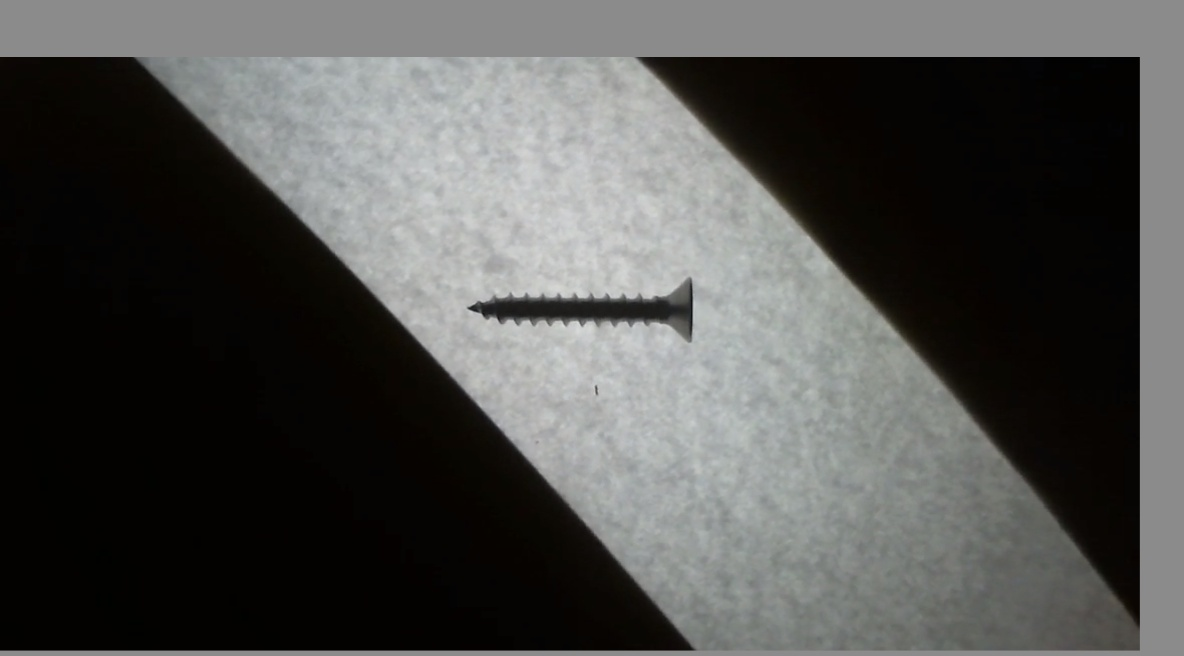S001: (459, 267, 712, 354)
